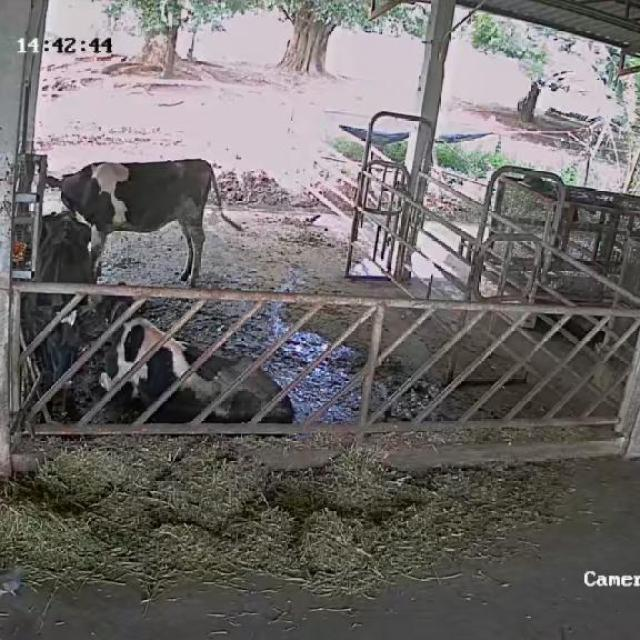lying down: (73, 281, 300, 426)
standing: (50, 154, 224, 289), (25, 211, 98, 412)
